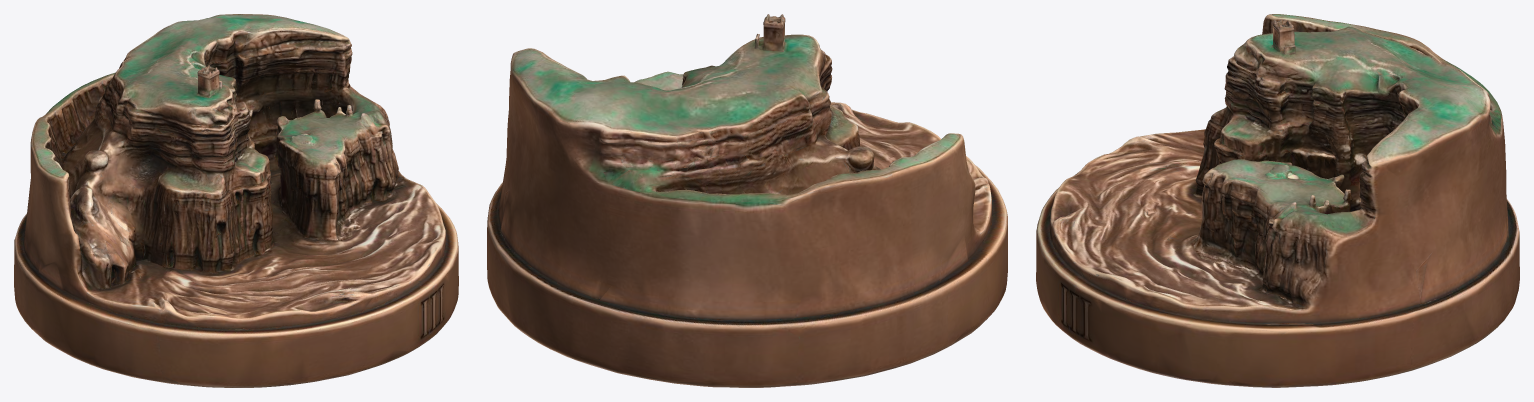
File: cliffs_of_moher.glb
The picture shows the model from 3 angles, left to right: view 1: azimuth 30°, elevation 25°; view 2: azimuth 150°, elevation 25°; view 3: azimuth 270°, elevation 25°; orthographic projection. The views are drawn at different scales.
Visible parts, largest first — view 1: Mesh_0; view 2: Mesh_0; view 3: Mesh_0.
Boxes of the visible parts, x1,y1,x2,y2 form: Mesh_0: (14, 14, 458, 387); Mesh_0: (487, 14, 1007, 387); Mesh_0: (1036, 14, 1519, 387).
Size of the model in its own units: 1.91 by 1.1 by 1.91.
1 material, 1 textured.
